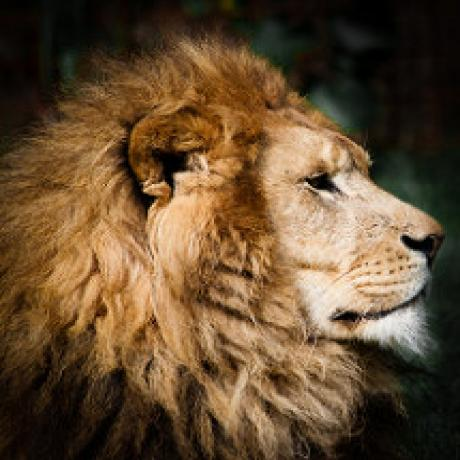Lion: (0, 38, 443, 459)
